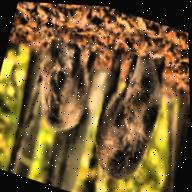boar: (74, 28, 182, 192), (11, 24, 105, 148)
